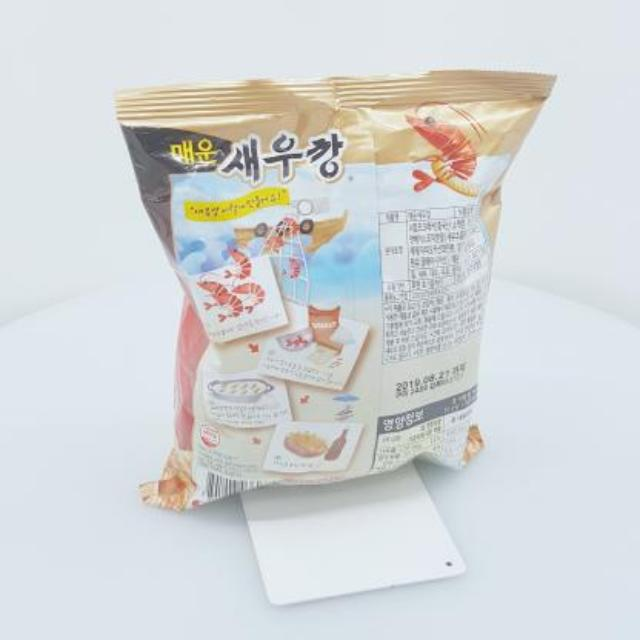snack_bag: (106, 58, 566, 518)
